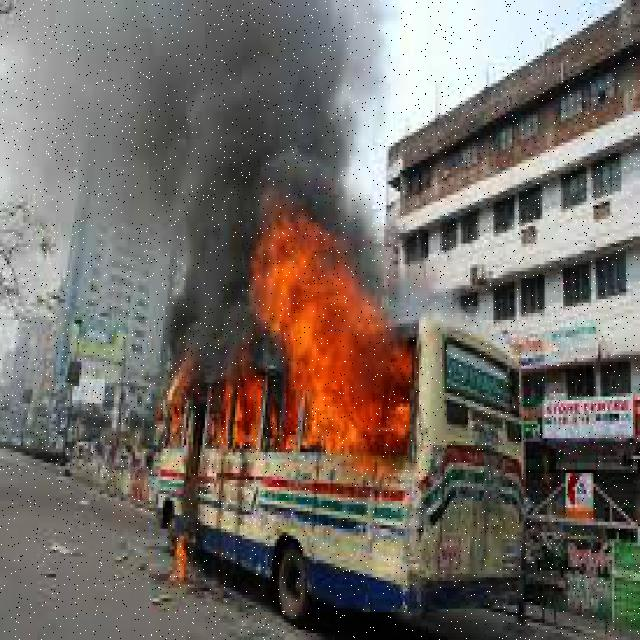fire: (276, 228, 416, 452)
smoke: (112, 4, 390, 219)
